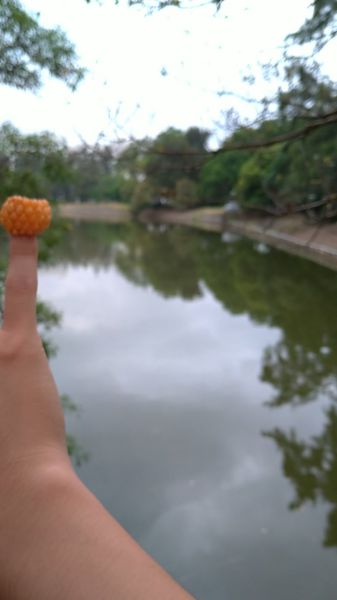eggs: (2, 192, 54, 237)
